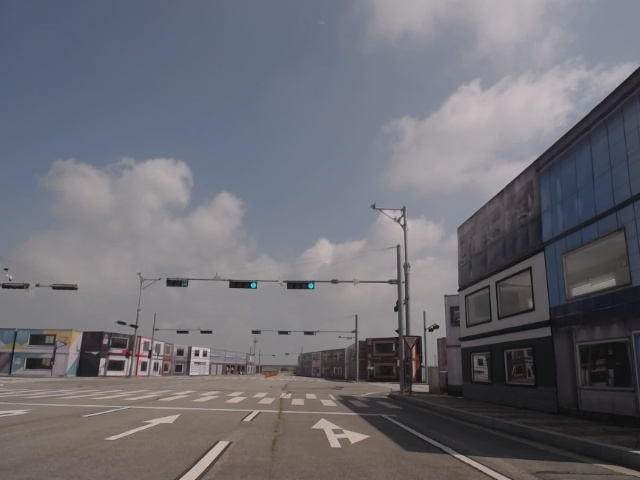straight_green_4: (232, 280, 259, 288), (285, 282, 315, 288)
